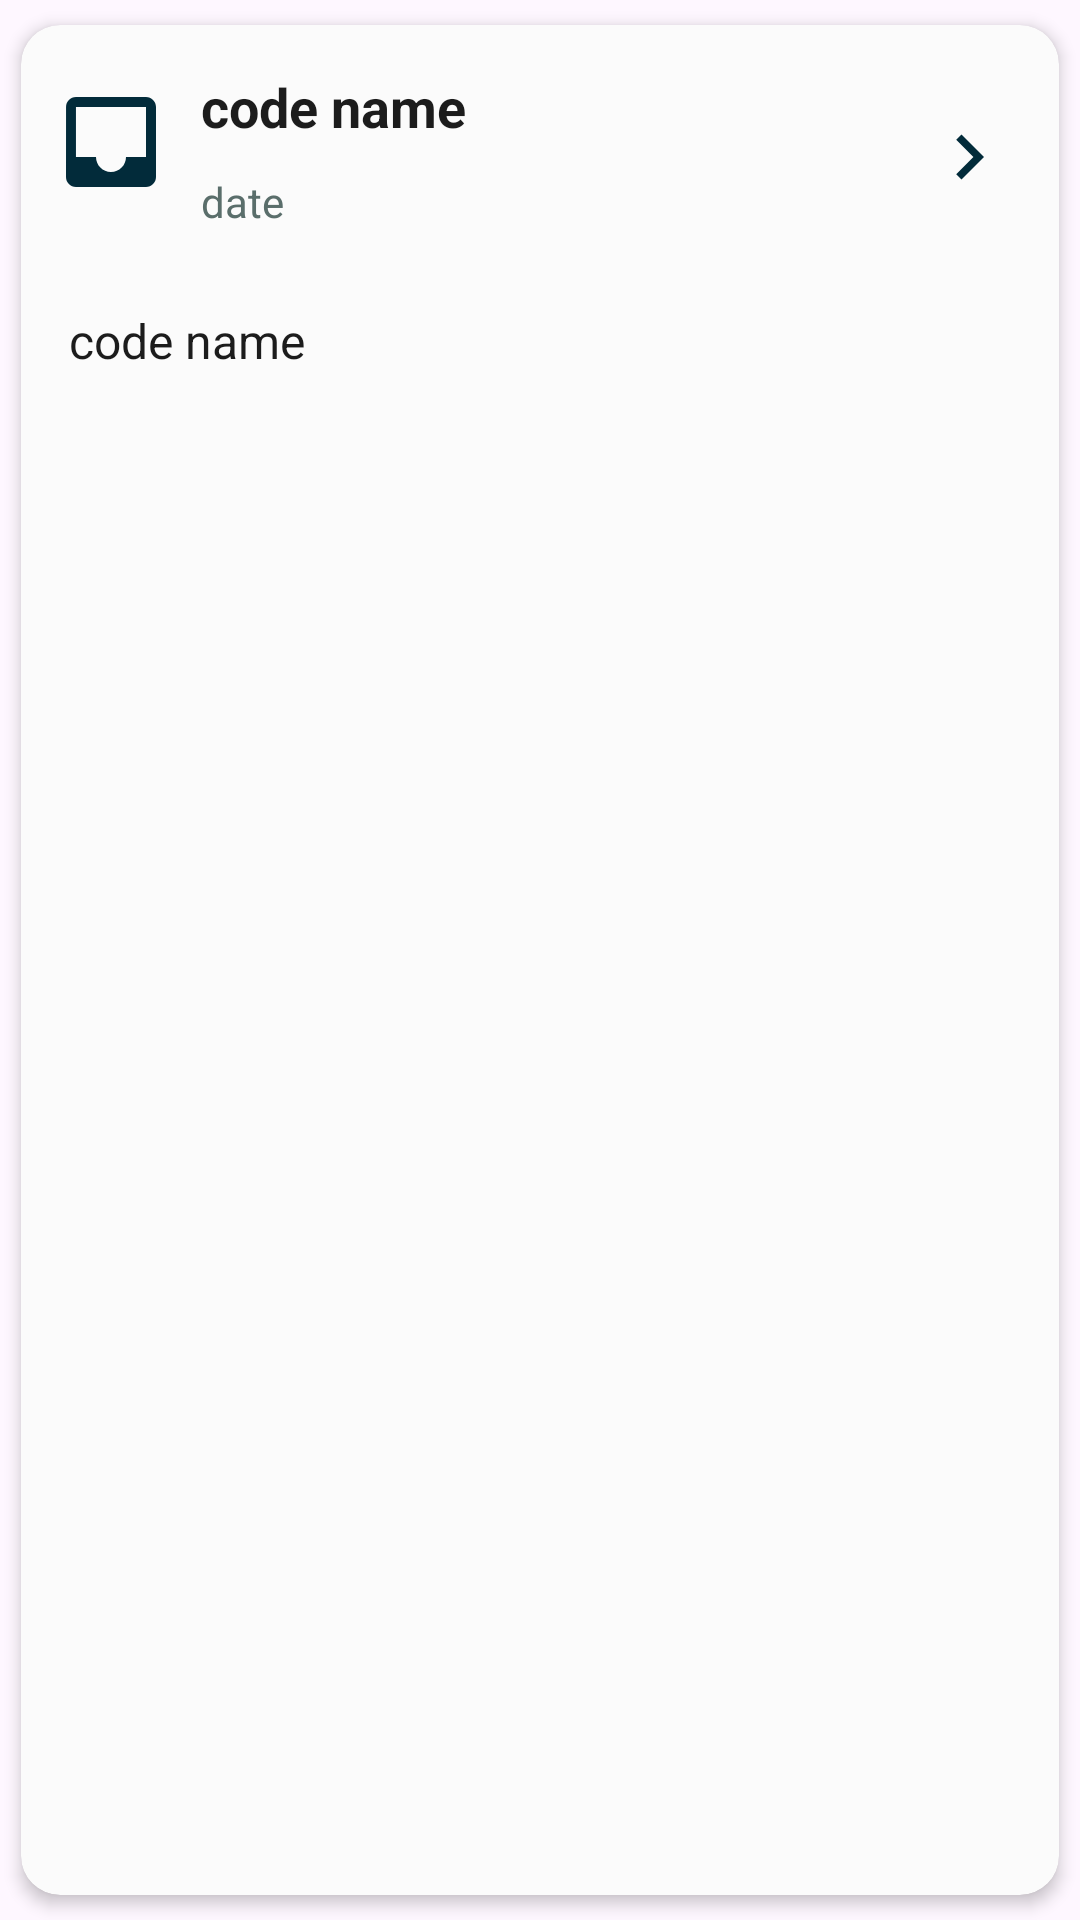

Icons on this 1080 x 1920 Android screen, each with the point to tap as (x=x, y=y):
inbox: (x=111, y=142)
keyboard arrow right: (x=970, y=157)
